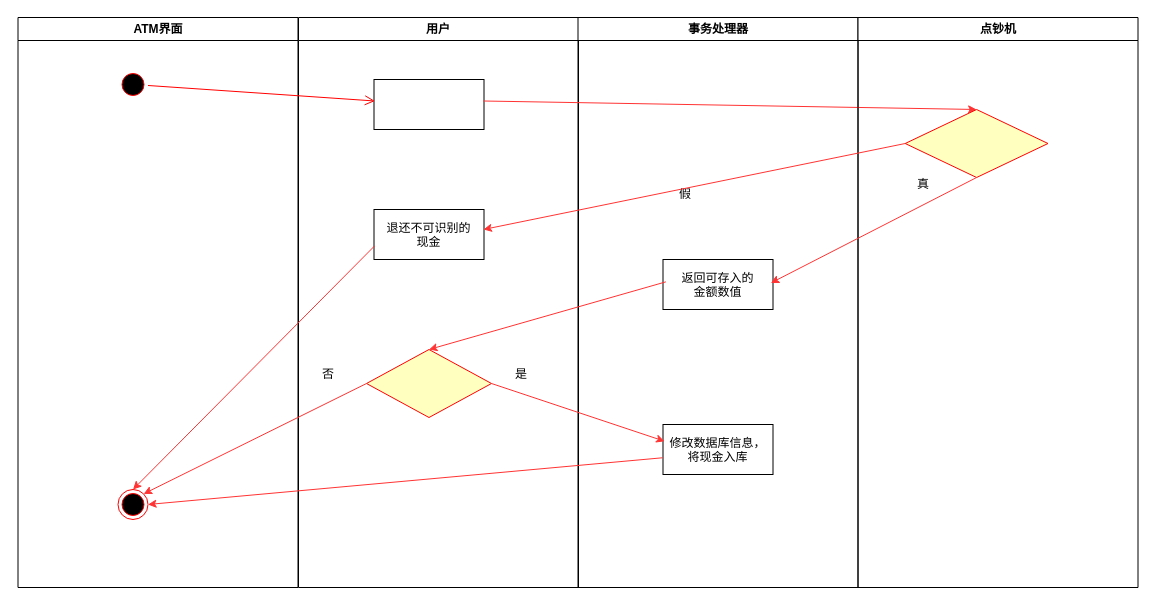
The diagram is 1155 pixels wide and 605 high, and some of its shapes have lost their labels. The shapes that lost their labels are listed below. From the top down, each one's centre as x and y in pixels, then its label:
At point 428,104: "选择存款选项， 放入现金".
At point 976,143: "验证钞票真伪".
At point 429,383: "确认是否存款".
